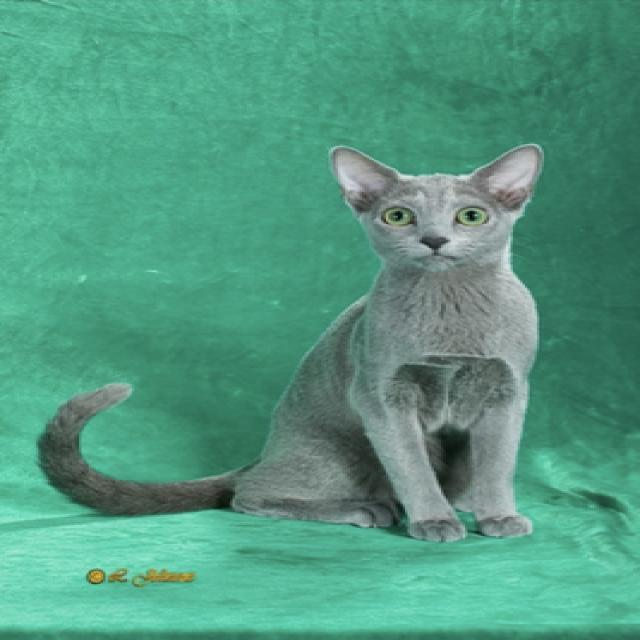cat: (326, 141, 542, 269)
